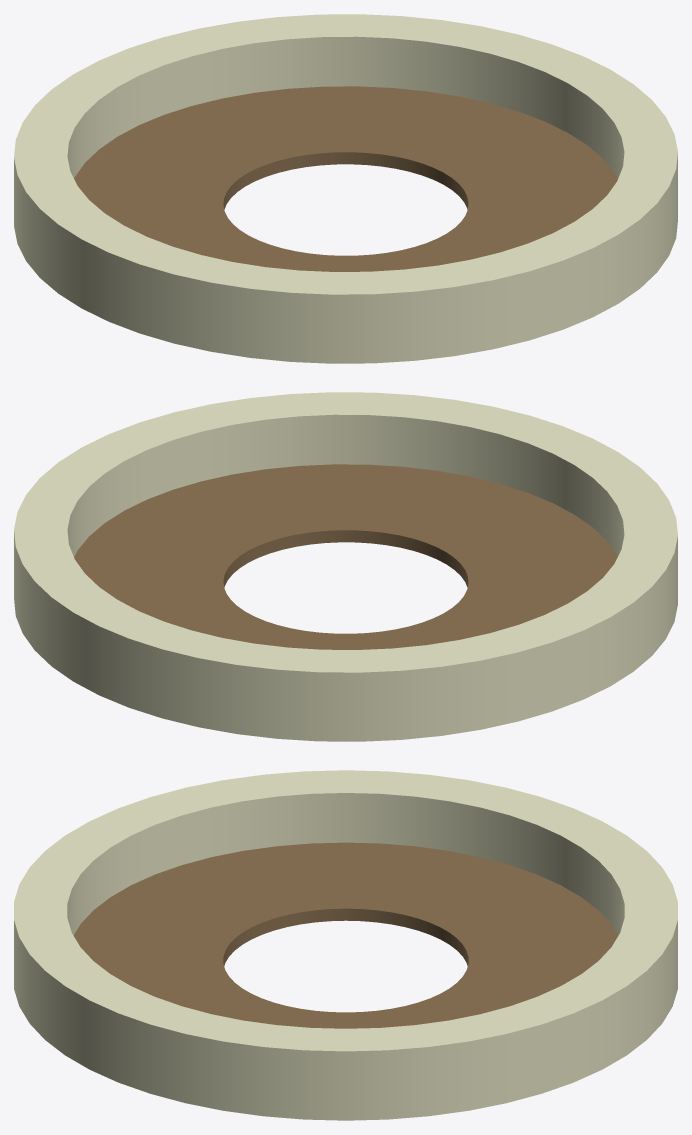
Rendered from ballroom_oculus.fbx.
3 views of the same model, one above another, from view 1: azimuth 30°, elevation 25°; view 2: azimuth 150°, elevation 25°; view 3: azimuth 270°, elevation 25° (orthographic).
Parts seen in each view (by area): view 1: polySurface1; view 2: polySurface1; view 3: polySurface1.
Boxes of the visible parts, bbox=[...] form: polySurface1: bbox=[14, 14, 677, 363]; polySurface1: bbox=[14, 392, 677, 741]; polySurface1: bbox=[14, 770, 677, 1120].
Size of the model in its own units: 298 by 34.23 by 297.
